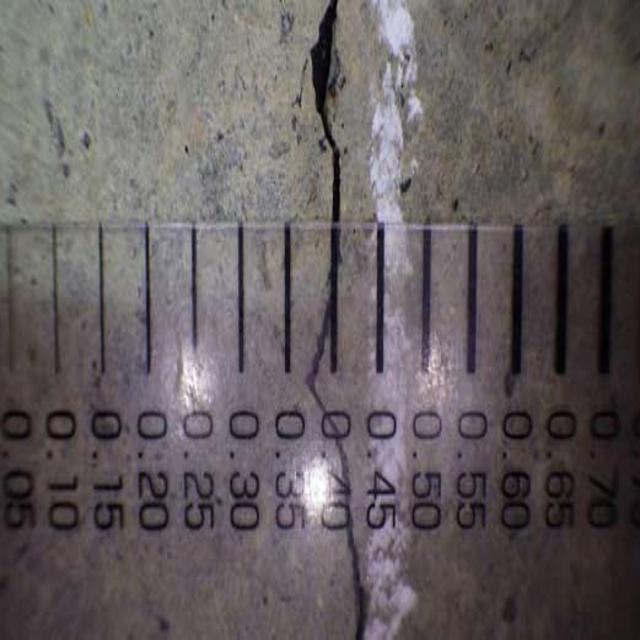crack: (287, 4, 409, 640)
